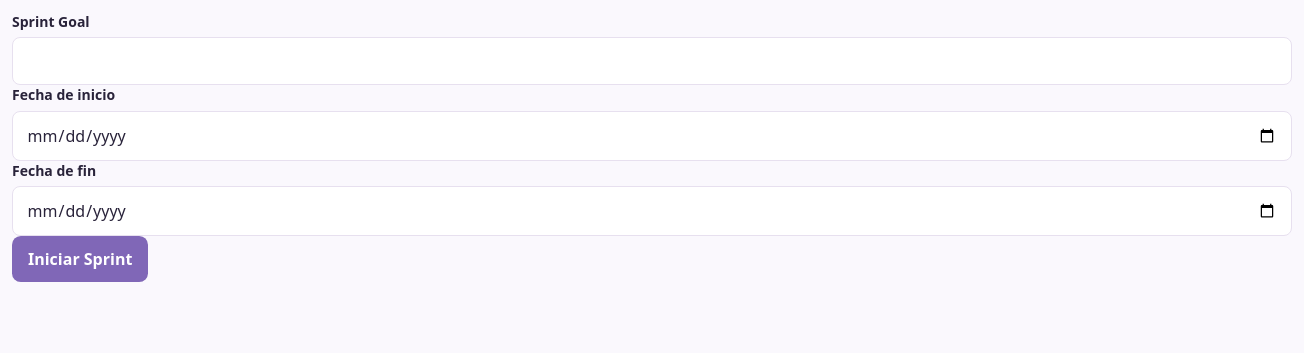
Test: FormularioInicio › deshabilita el botón y muestra la carga mientras envía
Type "Meta" into the field labelled "Sprint Goal" at (652, 61), box [12, 37, 1292, 85]
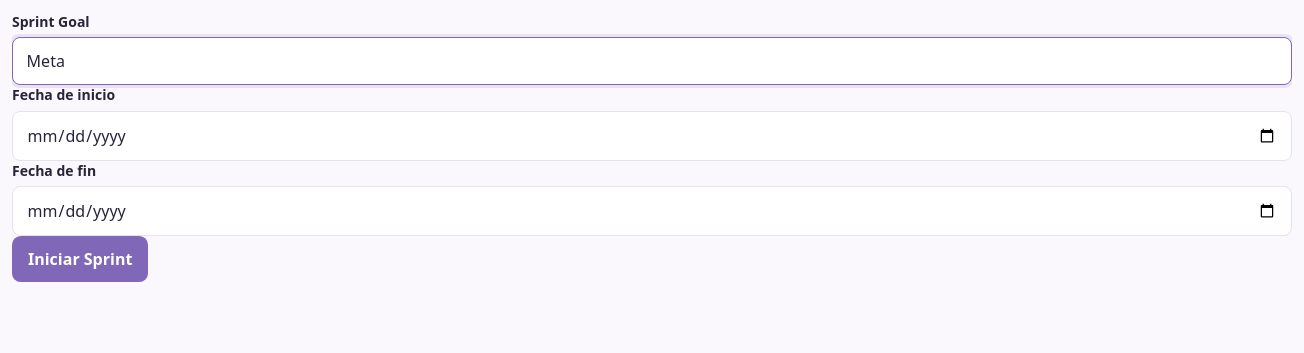
Type "2026-10-01" into the date field labelled "Fecha de inicio" at (652, 136), box [12, 111, 1292, 161]
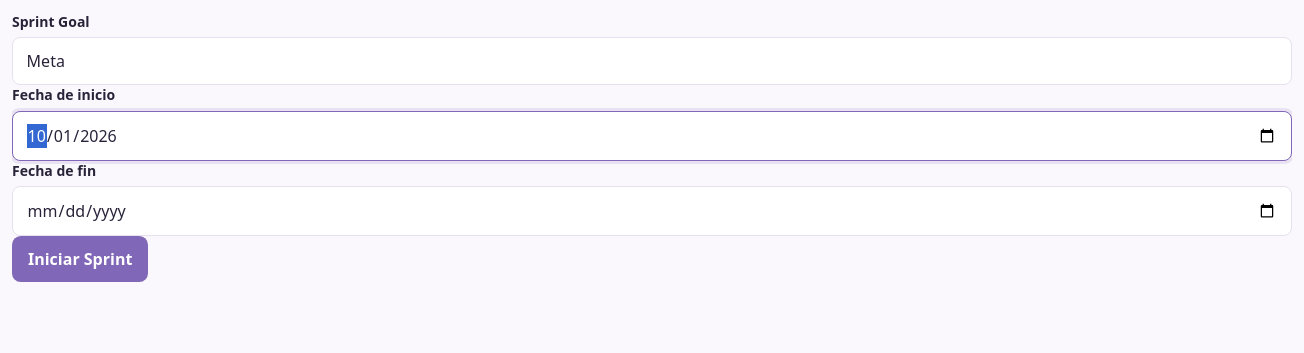
Type "2026-10-15" into the date field labelled "Fecha de fin" at (652, 211), box [12, 186, 1292, 236]
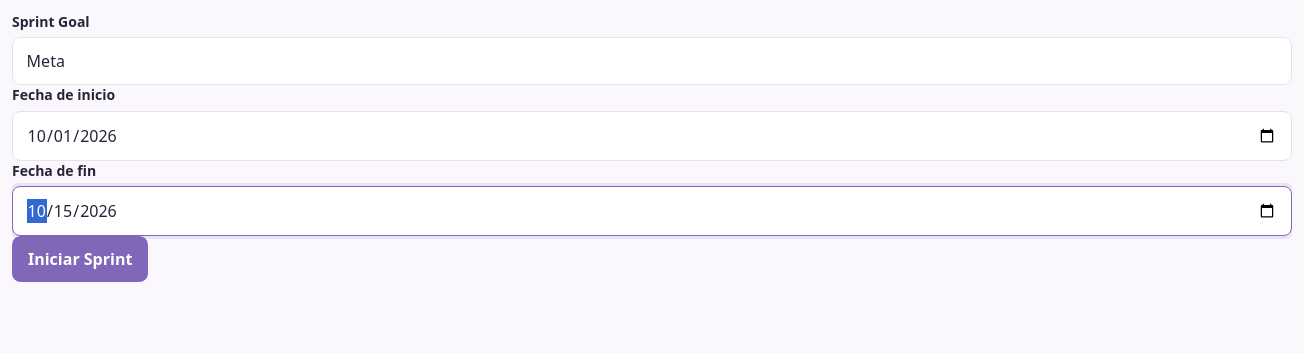
Click the button "Iniciar Sprint" at (80, 259), box [12, 236, 148, 282]
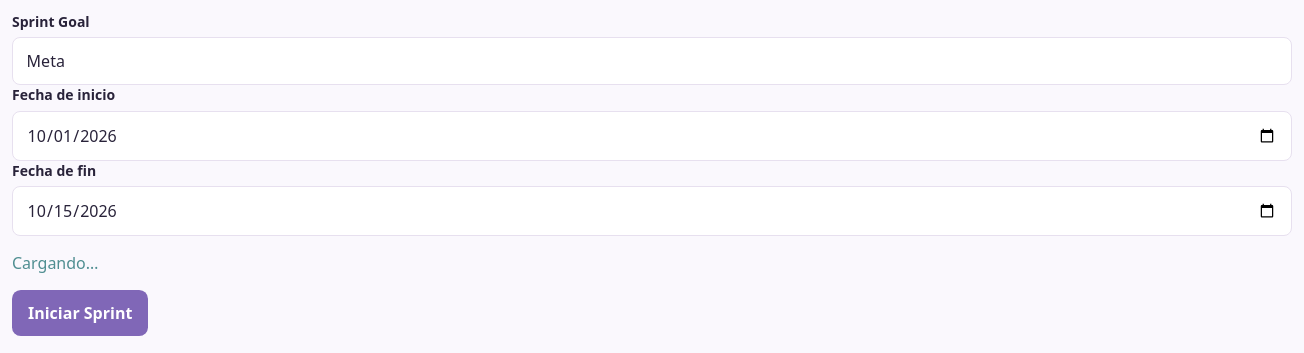
Result: the text "Cargando…" is shown at [12, 252, 98, 274]
Result: the button "Iniciar Sprint" is disabled at [12, 290, 148, 336]
